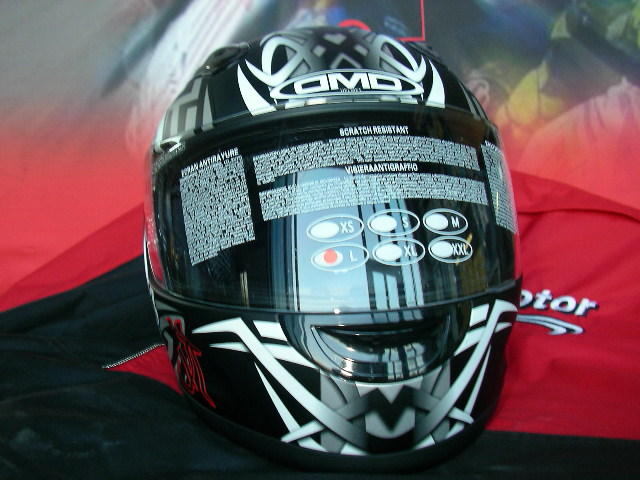helmet: (136, 37, 528, 452)
